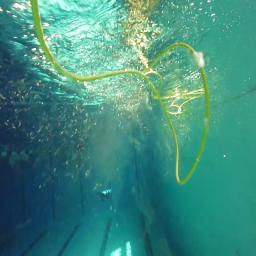Full: (98, 188, 114, 202)
